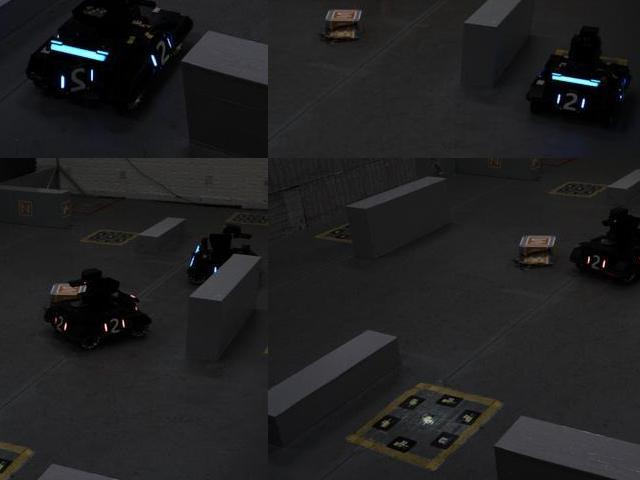armor: (54, 62, 100, 101), (144, 31, 176, 73), (556, 89, 589, 116), (96, 314, 131, 337), (582, 249, 610, 275), (51, 311, 70, 336), (633, 246, 639, 271)
